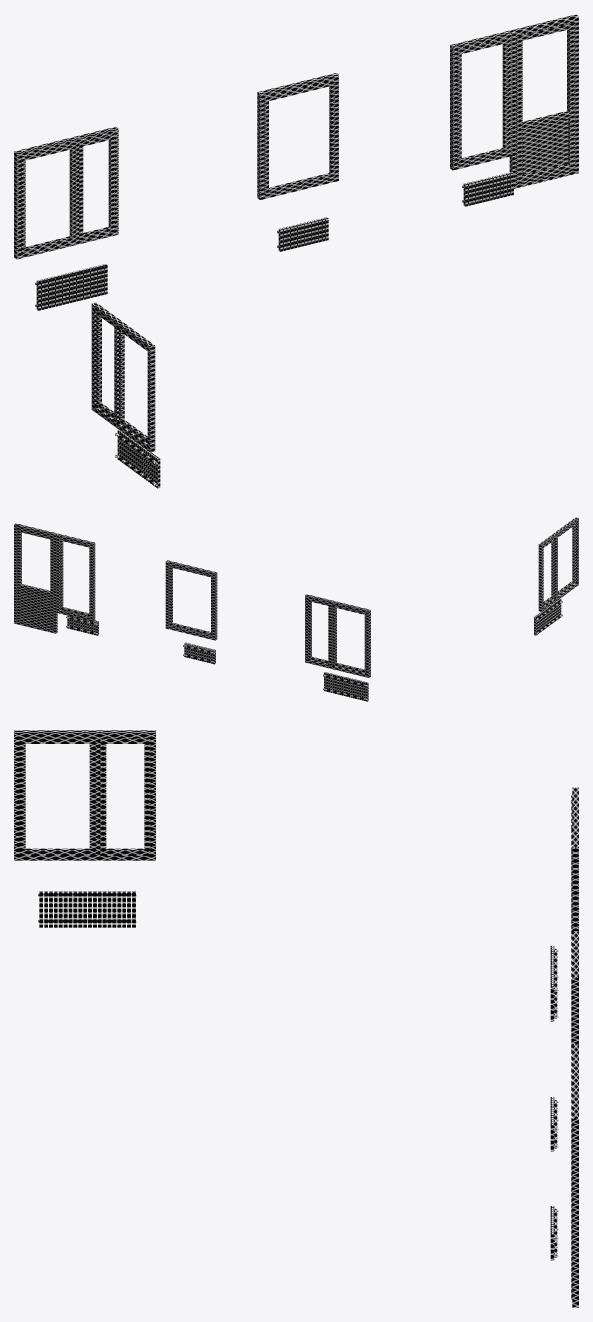
Rendered from ADSK_82.obj.
The picture shows the model from 3 angles, top to bottom: view 1: azimuth 30°, elevation 25°; view 2: azimuth 150°, elevation 25°; view 3: azimuth 270°, elevation 25°; orthographic projection. The views are drawn at different scales.
Bounding box in the file's own units: 9.52 × 2.16 × 5.85.
1 material, 1 textured.
